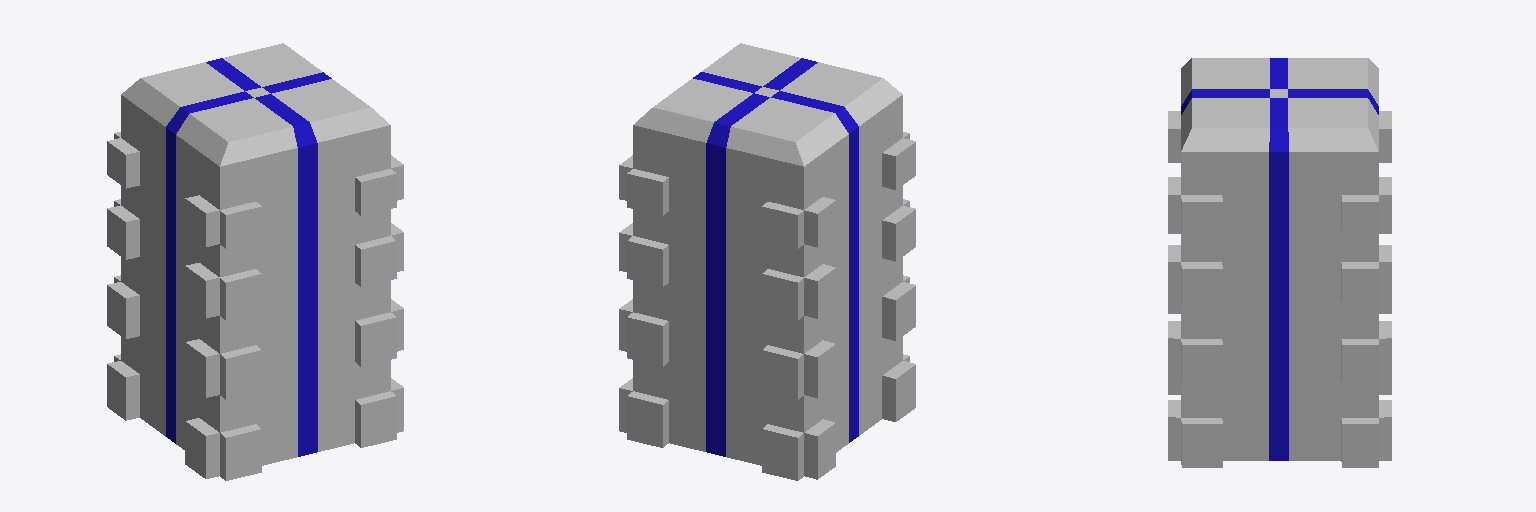
Rendered from TowerGlow01.obj.
3 views of the same model, side by side, from view 1: azimuth 30°, elevation 25°; view 2: azimuth 150°, elevation 25°; view 3: azimuth 270°, elevation 25° (orthographic).
Size of the model in its own units: 2.32 by 3.65 by 2.27.